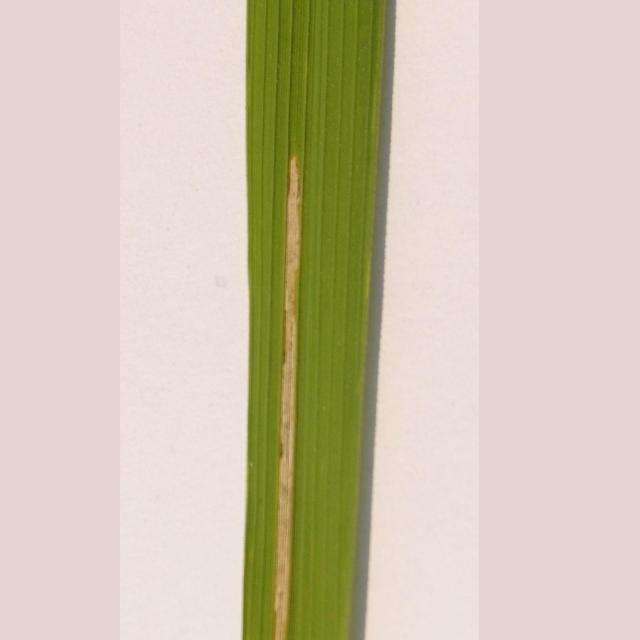Bacterial leaf blight: (270, 146, 306, 640)
